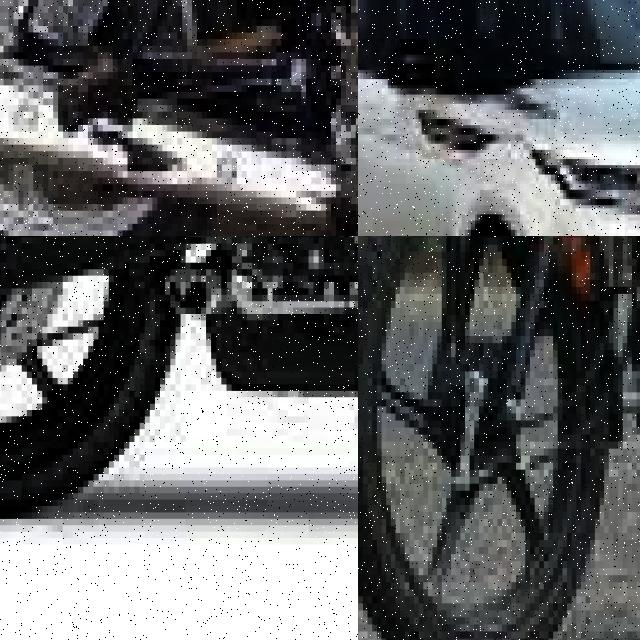bike: (358, 236, 640, 640), (0, 236, 358, 544), (0, 0, 358, 236)
car: (358, 0, 640, 236)
